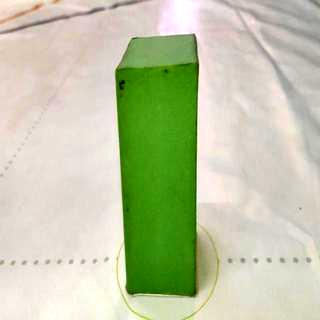greenbox: (116, 34, 202, 298)
